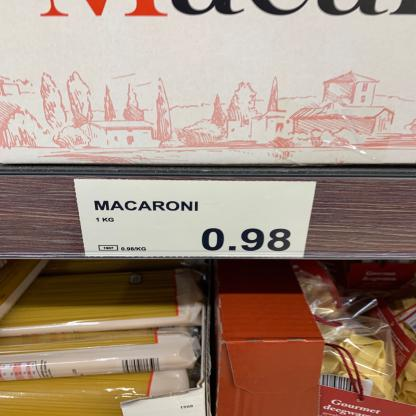prtg: (76, 180, 317, 258)
